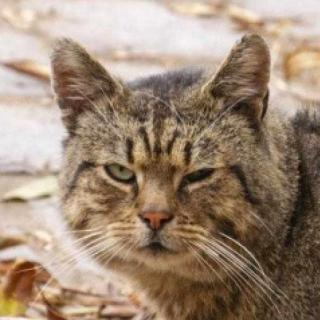cat: (39, 28, 279, 279)
nose: (136, 193, 178, 238)
